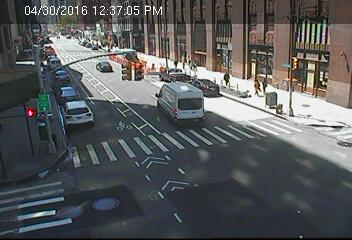neg: (123, 183, 161, 234), (28, 115, 62, 161), (177, 104, 209, 147), (282, 86, 312, 126), (309, 95, 338, 134), (135, 42, 150, 62), (159, 56, 168, 68), (119, 5, 127, 16), (78, 37, 84, 45), (85, 40, 88, 44)
